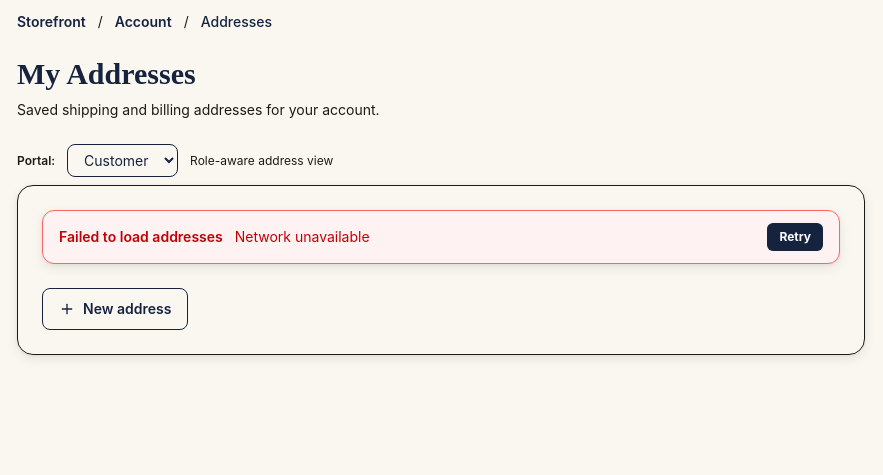
Scenario: Saved Addresses page › shows a useful error and allows retry when loading fails
Expected: the text "Failed to load addresses" is shown, [59, 227, 223, 247]
Expected: the text "Network unavailable" is shown, [235, 227, 370, 247]
Click the button "Retry" at coordinates (795, 237), box [767, 223, 823, 251]
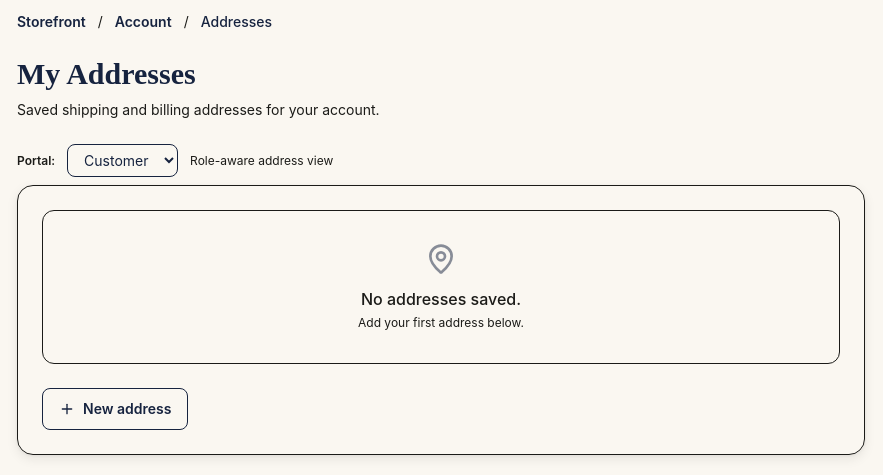
Now the text "No addresses saved." is shown, box [361, 289, 521, 309]
